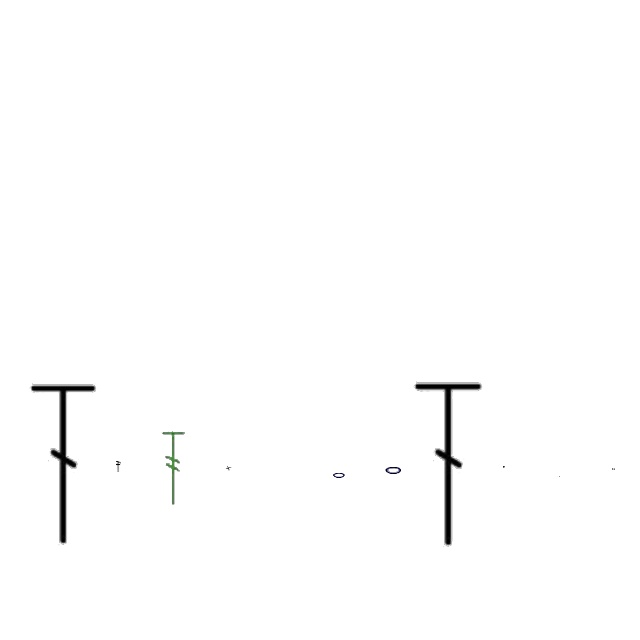chain: (384, 463, 404, 477), (332, 470, 346, 480), (612, 468, 616, 470), (503, 466, 505, 468), (558, 476, 560, 478)
double: (226, 465, 232, 471)
double treble: (412, 376, 486, 552), (28, 378, 100, 550), (116, 462, 122, 472)
fan: (160, 428, 188, 510)
